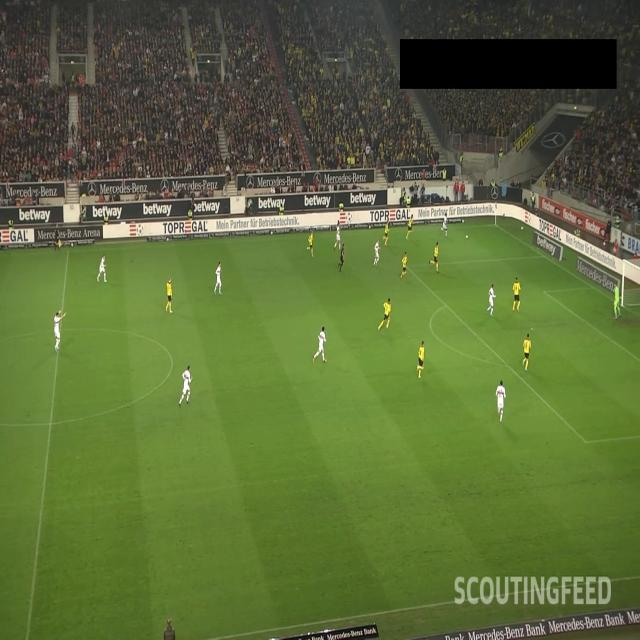ball: (465, 234, 469, 240)
